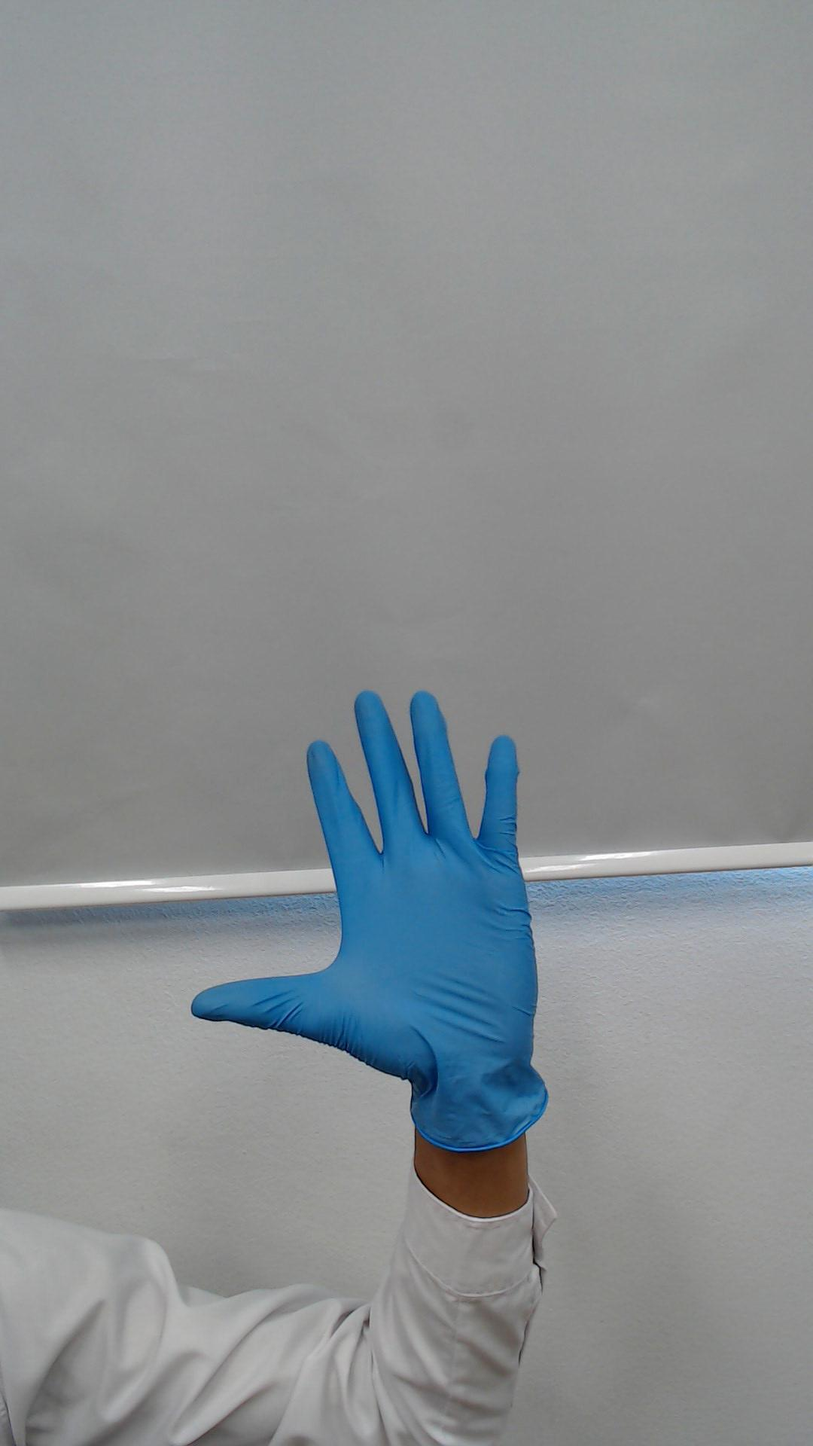gloves: (162, 648, 591, 1069)
